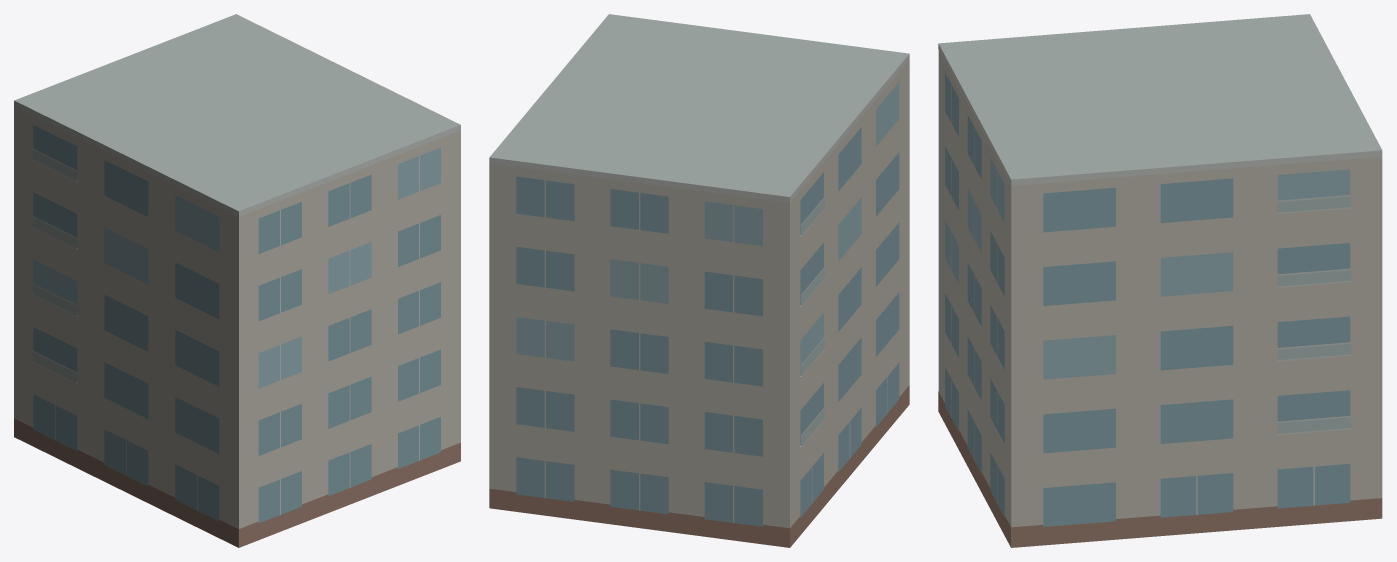
Rendered from survey-upis-32748722.glb.
3 views of the same model, side by side, from view 1: azimuth 30°, elevation 25°; view 2: azimuth 150°, elevation 25°; view 3: azimuth 270°, elevation 25° (orthographic). The views are drawn at different scales.
Parts seen in each view (by area): view 1: survey-upis-32748722.tmp; view 2: survey-upis-32748722.tmp; view 3: survey-upis-32748722.tmp.
Part boxes in pixels (x1,y1,x2,y2): survey-upis-32748722.tmp: [14, 14, 460, 547]; survey-upis-32748722.tmp: [489, 14, 909, 547]; survey-upis-32748722.tmp: [938, 14, 1382, 547].
Bounding box in the file's own units: 13.9 × 14.4 × 15.74.
